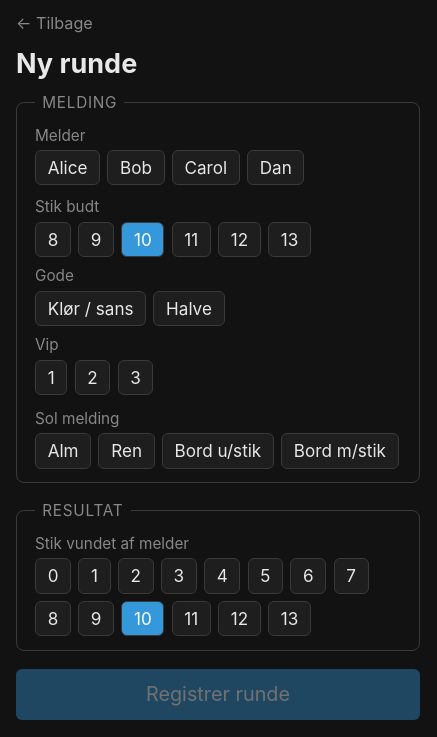
Test: Round screen - Sol bid › activates sol mode when a sol type chip is clicked
Click the button "Ren". click: (127, 451)
box: [98,433,155,469]
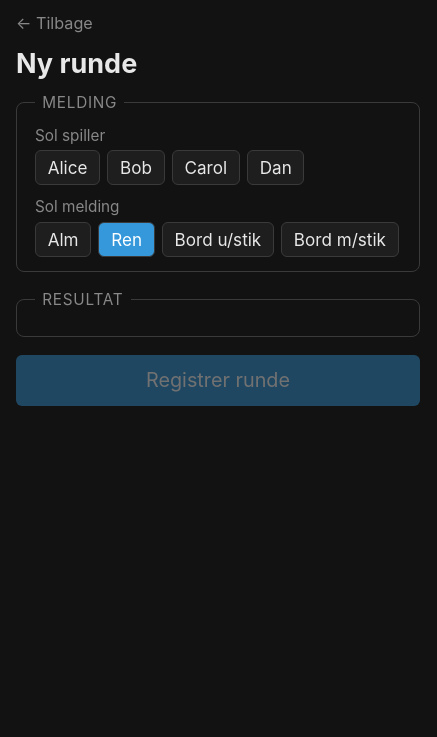
Result: the text "Sol spiller" is shown at [35,126,105,144]
